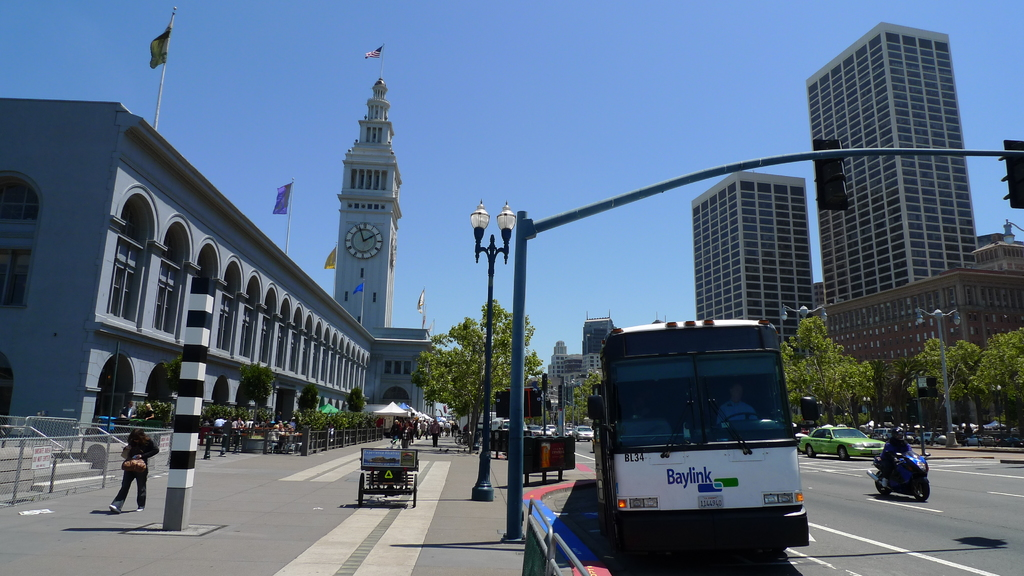Bus: (585, 315, 817, 556)
